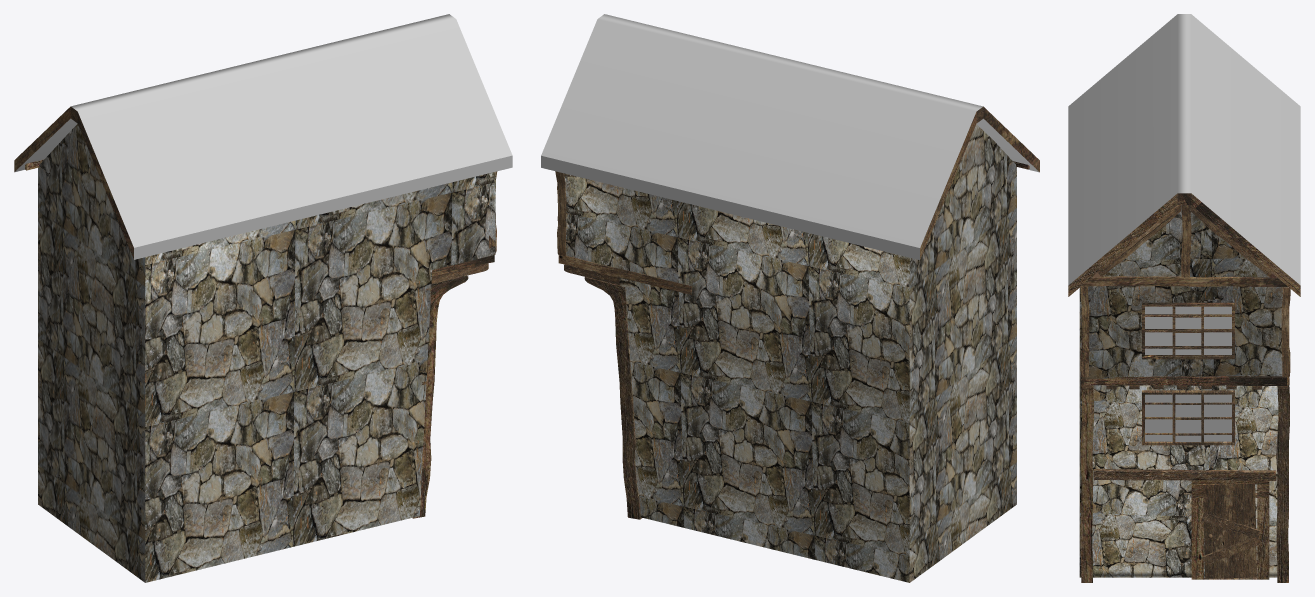
The model's file is Building_02blend.fbx.
3 renders of one model, left to right at view 1: azimuth 30°, elevation 25°; view 2: azimuth 150°, elevation 25°; view 3: azimuth 270°, elevation 25°, orthographic. The views are drawn at different scales.
Visible parts, largest first — view 1: pCube1, pCube2, polySurface13; view 2: pCube1, pCube2, polySurface42, polySurface16, polySurface61; view 3: pCube2, pCube1, polySurface33, polySurface45, polySurface48, polySurface13, polySurface42, polySurface10, polySurface62, polySurface32, polySurface4, polySurface25 (+12 smaller).
Part boxes in pixels (bbox=[...]): pCube1: bbox=[38, 124, 495, 582]; pCube2: bbox=[14, 14, 512, 259]; polySurface13: bbox=[412, 275, 468, 518]; pCube1: bbox=[564, 124, 1016, 582]; pCube2: bbox=[541, 14, 1039, 259]; polySurface42: bbox=[584, 277, 642, 519]; polySurface16: bbox=[558, 255, 691, 294]; polySurface61: bbox=[555, 171, 566, 256]; pCube2: bbox=[1068, 14, 1300, 296]; pCube1: bbox=[1079, 205, 1287, 577]; polySurface33: bbox=[1142, 302, 1234, 359]; polySurface45: bbox=[1203, 483, 1256, 578]; polySurface48: bbox=[1191, 480, 1269, 579]; polySurface13: bbox=[1080, 385, 1093, 582]; polySurface42: bbox=[1276, 385, 1289, 582]; polySurface10: bbox=[1142, 390, 1234, 445]; polySurface62: bbox=[1093, 469, 1276, 480]; polySurface32: bbox=[1082, 276, 1287, 286]; polySurface4: bbox=[1084, 376, 1286, 385]; polySurface25: bbox=[1098, 205, 1180, 277].
Bounding box in the file's own units: 179 × 199 × 97.99.
